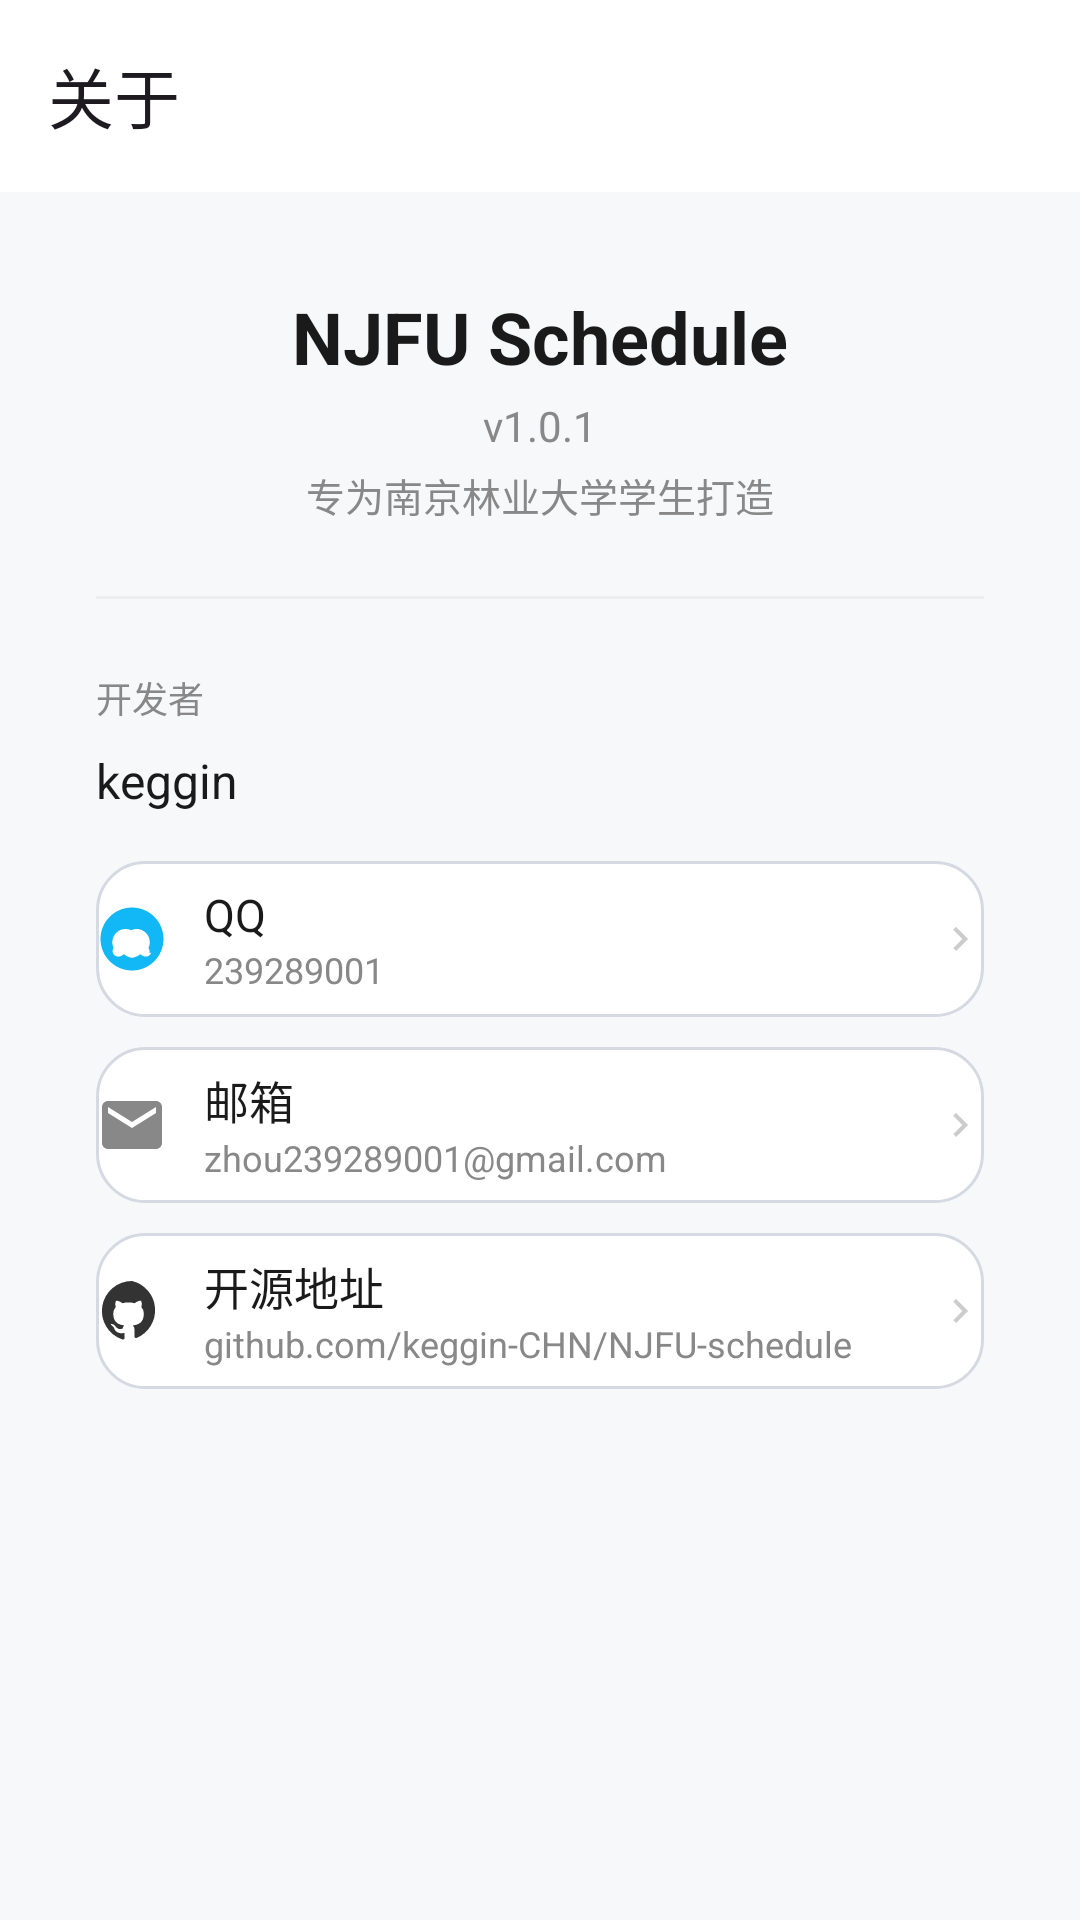

Where to tap for icons on this 1080*1920 app screen, as [x,y]:
email: [132,1125]
